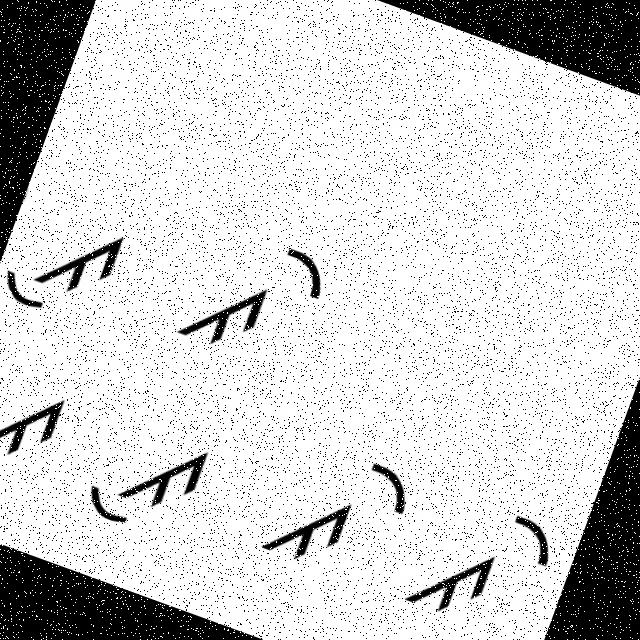kaw: (0, 181, 138, 340), (73, 409, 220, 556), (0, 353, 74, 501)
kay: (240, 411, 426, 604), (166, 207, 339, 388), (400, 478, 571, 639)
